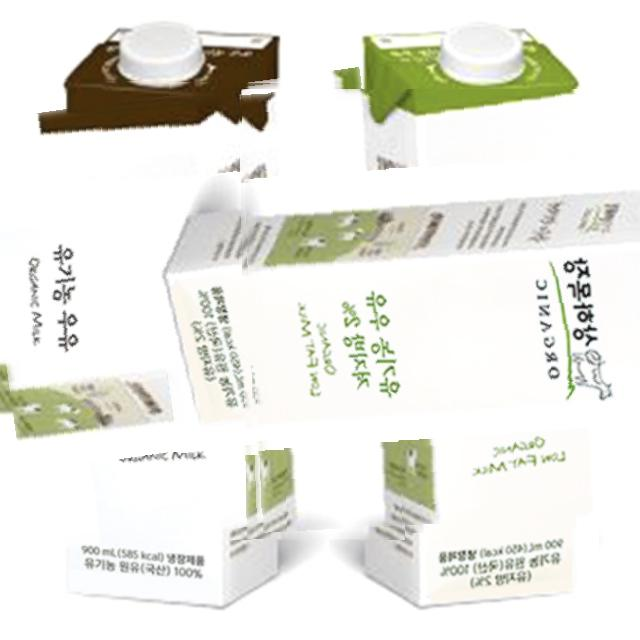biodegradable: (0, 79, 405, 540), (241, 89, 640, 533)
